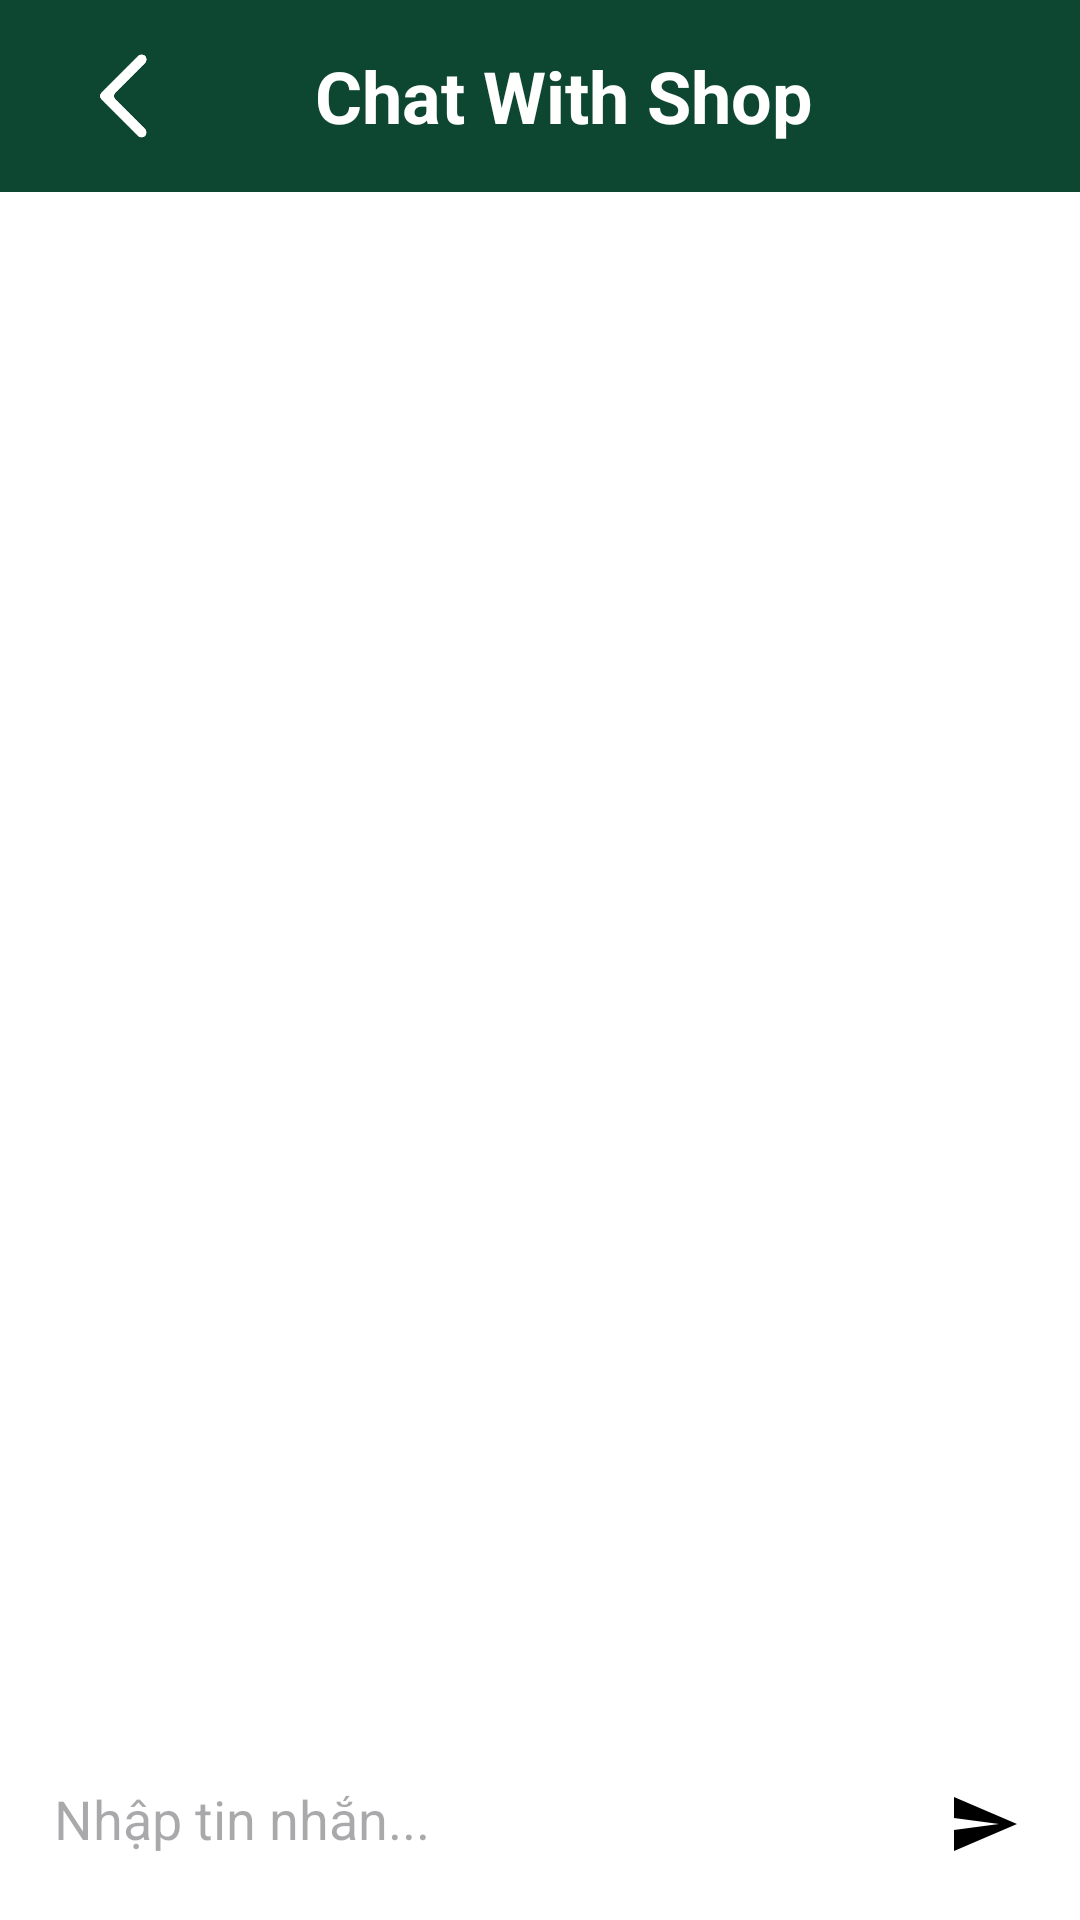

Icons on this 1080w x 1920h Android screen, each with the point to tap as (x,y):
back to previous activity: (123,96)
Gửi tin: (985,1824)
